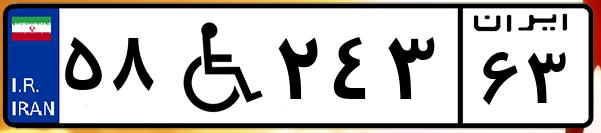2: (270, 28, 330, 110)
3: (385, 28, 445, 110), (525, 38, 570, 115)
4: (330, 28, 385, 110)
5: (57, 26, 110, 100)
6: (475, 38, 525, 113)
8: (110, 28, 158, 98)
ژ (معلولین و جانبازان): (158, 12, 270, 120)
